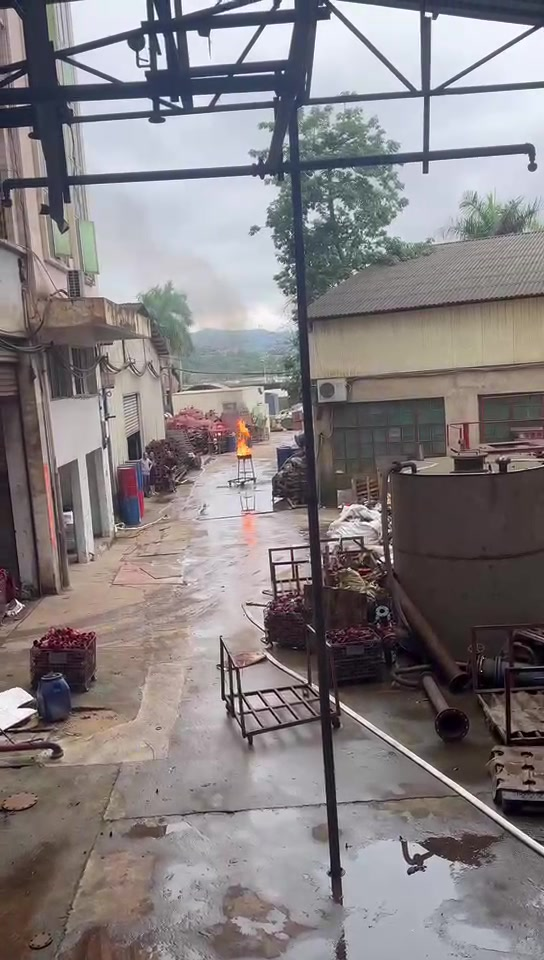fire: (235, 419, 251, 456)
